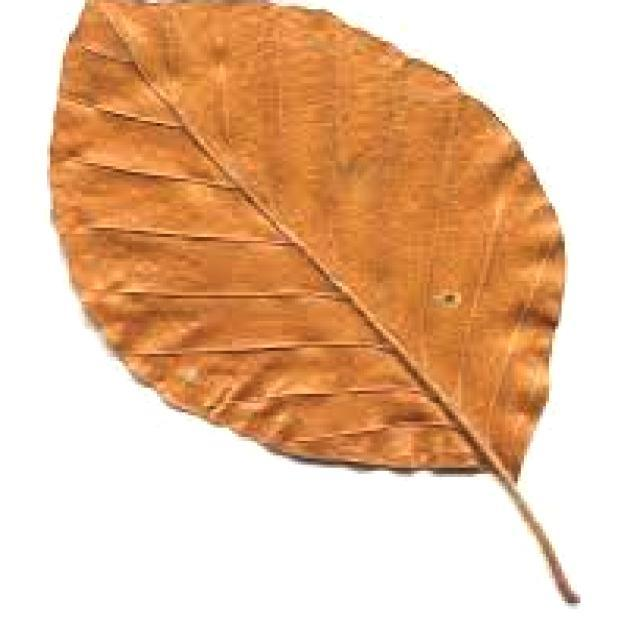leaf: (47, 0, 580, 603)
